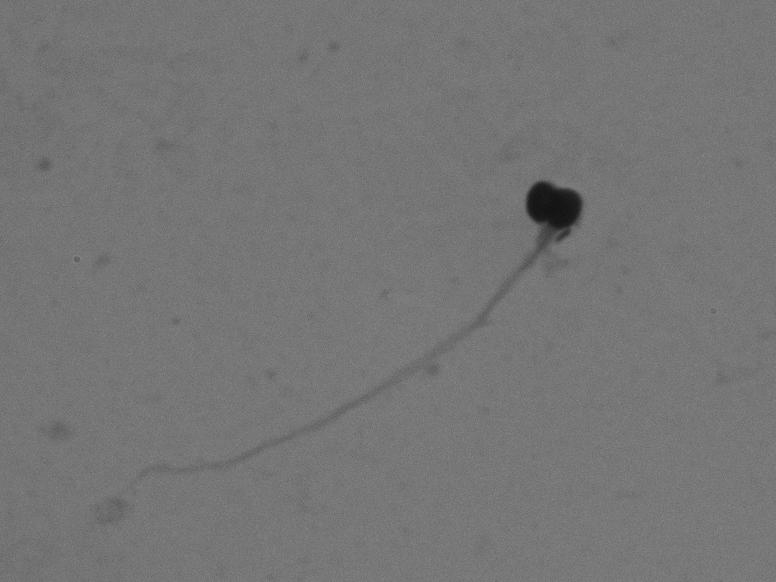Abnormal: (101, 163, 649, 513)
